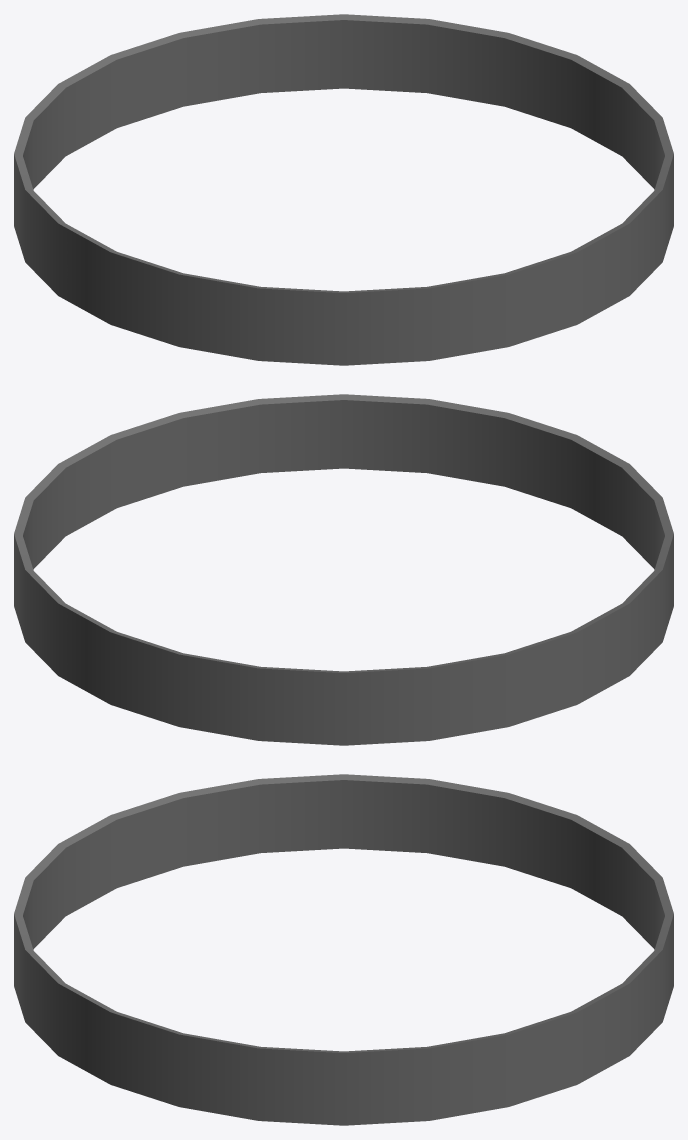
File: Alnair_Heatshield_1_Fairing.obj
The picture shows the model from 3 angles, top to bottom: view 1: azimuth 30°, elevation 25°; view 2: azimuth 150°, elevation 25°; view 3: azimuth 270°, elevation 25°; orthographic projection.
Visible parts, largest first — view 1: Alnair_Heatshield_1_Fairing; view 2: Alnair_Heatshield_1_Fairing; view 3: Alnair_Heatshield_1_Fairing.
Part boxes in pixels (x1=…): Alnair_Heatshield_1_Fairing: x1=14, y1=14, x2=673, y2=365; Alnair_Heatshield_1_Fairing: x1=14, y1=394, x2=673, y2=745; Alnair_Heatshield_1_Fairing: x1=14, y1=774, x2=673, y2=1125.
Bounding box in the file's own units: 1.88 × 0.2275 × 1.88.
